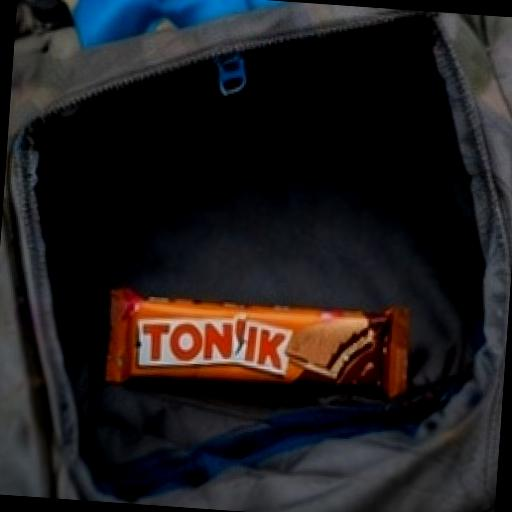tonik: (62, 194, 462, 486), (87, 188, 96, 196)
